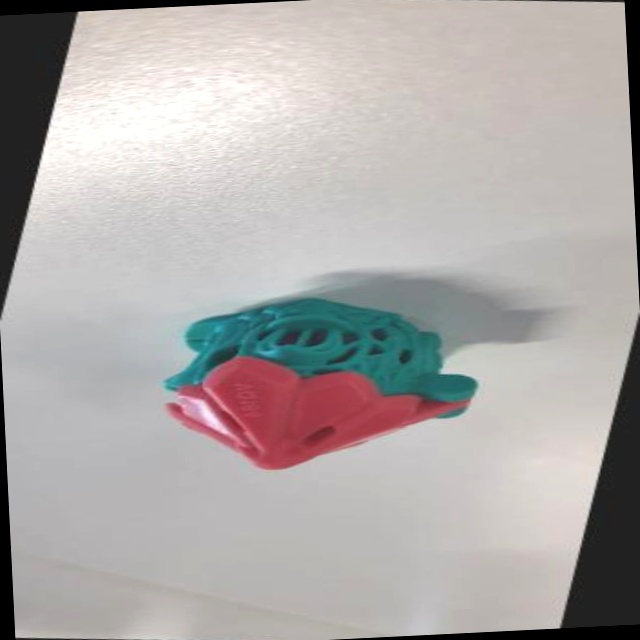House: (109, 268, 522, 500)
